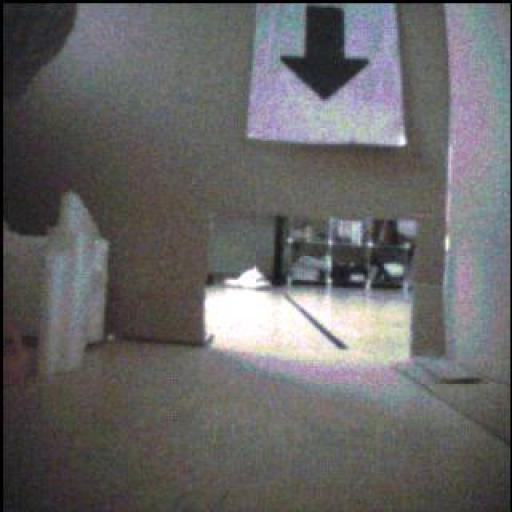arrow: (283, 8, 371, 101)
